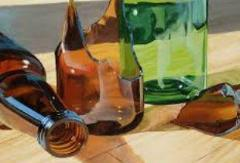glass: (0, 29, 90, 159)
